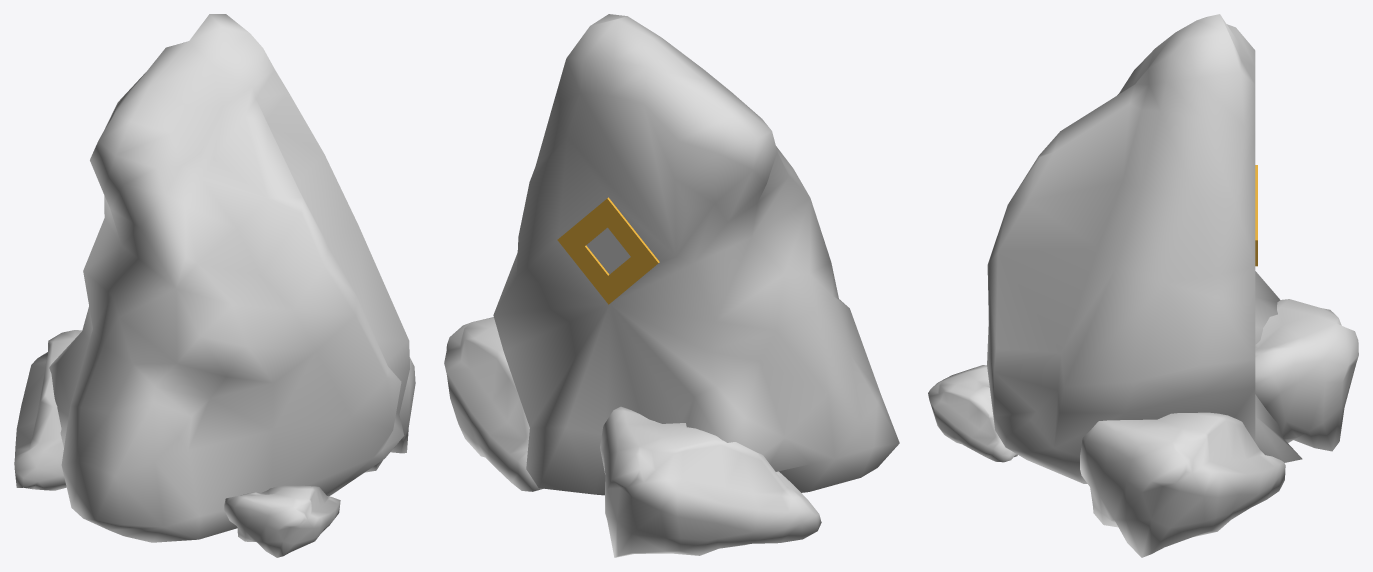
Rendered from Inguz.fbx.
The picture shows the model from 3 angles, left to right: view 1: azimuth 30°, elevation 25°; view 2: azimuth 150°, elevation 25°; view 3: azimuth 270°, elevation 25°; orthographic projection. The views are drawn at different scales.
Visible parts, largest first — view 1: uploads_files_4276670_stone_small; view 2: uploads_files_4276670_stone_small, Inguz; view 3: uploads_files_4276670_stone_small.
Part boxes in pixels (x1=…): uploads_files_4276670_stone_small: x1=14, y1=14, x2=415, y2=557; uploads_files_4276670_stone_small: x1=444, y1=14, x2=899, y2=557; Inguz: x1=557, y1=197, x2=659, y2=304; uploads_files_4276670_stone_small: x1=928, y1=14, x2=1358, y2=557.
Size of the model in its own units: 155 by 181 by 152.
